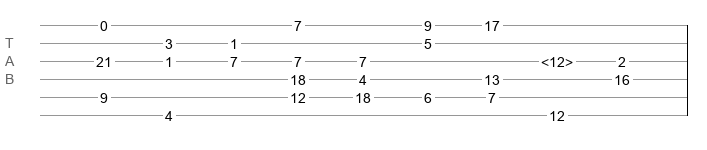0: (100, 18, 108, 28)
1: (165, 54, 173, 64), (230, 36, 238, 46)
12: (290, 90, 306, 100), (549, 108, 565, 118)
13: (484, 72, 500, 82)
16: (614, 72, 630, 82)
17: (484, 18, 500, 28)
18: (290, 72, 306, 82), (355, 90, 371, 100)
2: (618, 54, 626, 64)
21: (96, 54, 112, 64)
3: (165, 36, 173, 46)
4: (165, 108, 173, 118), (359, 72, 367, 82)
5: (424, 36, 432, 46)
6: (424, 90, 432, 100)
7: (230, 54, 238, 64), (294, 54, 302, 64), (294, 18, 302, 28), (359, 54, 367, 64), (488, 90, 496, 100)
9: (100, 90, 108, 100), (424, 18, 432, 28)
harmonic: (541, 54, 573, 64)
